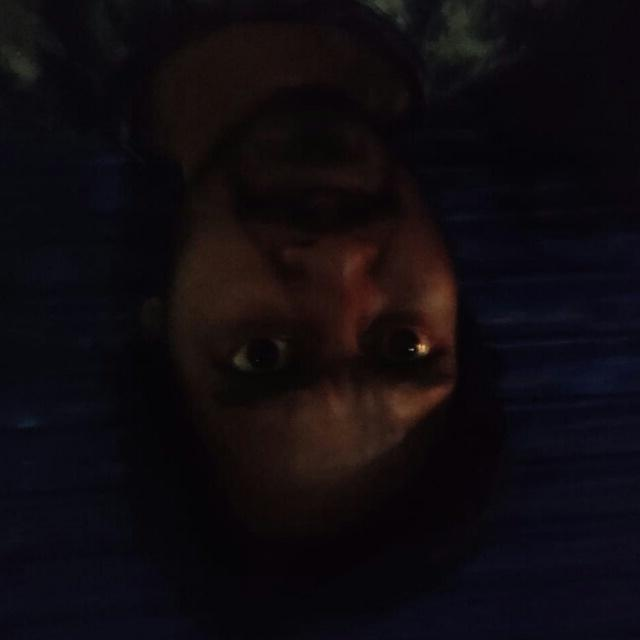Angry: (135, 125, 571, 625)
